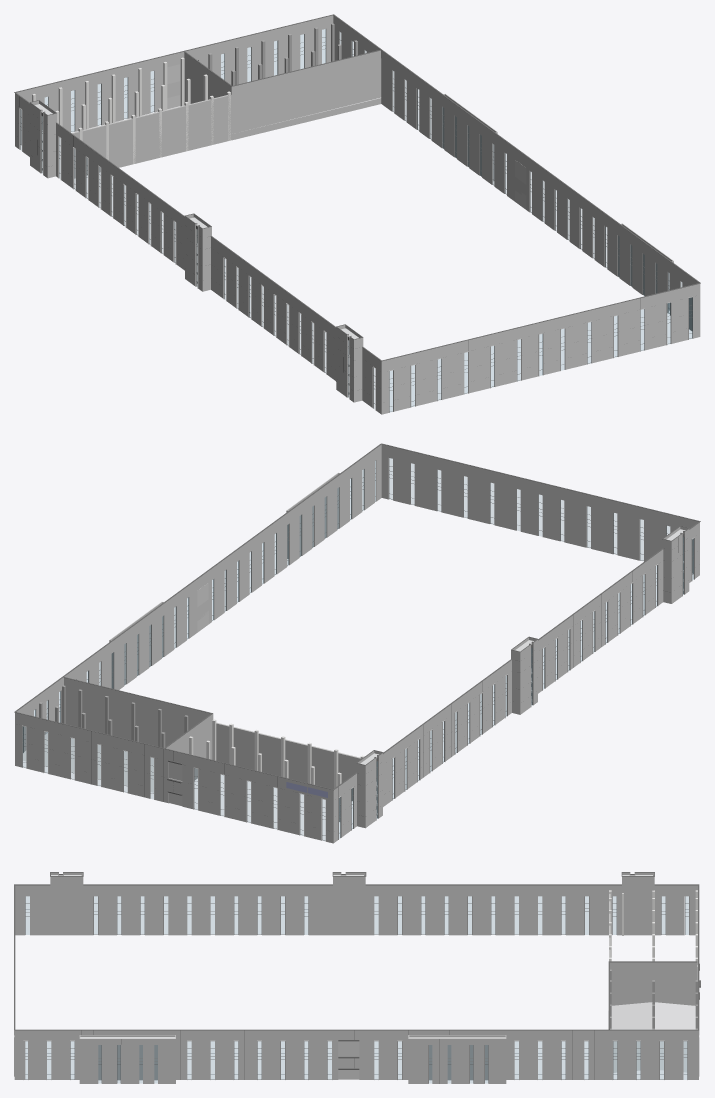
Rendered from source-upper.glb.
The picture shows the model from 3 angles, top to bottom: view 1: azimuth 30°, elevation 25°; view 2: azimuth 150°, elevation 25°; view 3: azimuth 270°, elevation 25°; orthographic projection. The views are drawn at different scales.
Parts seen in each view (by area): view 1: src_upper_2, src_upper_4, src_upper_5, src_upper_8, src_upper_9, src_upper_6; view 2: src_upper_2, src_upper_4, src_upper_5, src_upper_8, src_upper_9, src_upper_1, src_upper_6; view 3: src_upper_2, src_upper_4, src_upper_5, src_upper_1, src_upper_8, src_upper_6, src_upper_9.
Part boxes in pixels (x1,y1,x2,y2): src_upper_2: [15, 15, 700, 414]; src_upper_4: [14, 14, 700, 411]; src_upper_5: [21, 29, 691, 410]; src_upper_8: [32, 57, 230, 164]; src_upper_9: [208, 23, 381, 103]; src_upper_6: [167, 64, 526, 209]; src_upper_2: [15, 444, 699, 843]; src_upper_4: [14, 443, 700, 840]; src_upper_5: [23, 459, 693, 839]; src_upper_8: [189, 719, 364, 821]; src_upper_9: [39, 685, 188, 748]; src_upper_1: [23, 529, 685, 814]; src_upper_6: [169, 583, 208, 805]; src_upper_2: [14, 872, 699, 1083]; src_upper_4: [14, 872, 700, 1083]; src_upper_5: [26, 897, 688, 1082]; src_upper_1: [51, 875, 695, 1072]; src_upper_8: [609, 890, 697, 980]; src_upper_6: [338, 1041, 359, 1079]; src_upper_9: [610, 969, 697, 1029].
Size of the model in its own units: 101 by 18.21 by 192.
